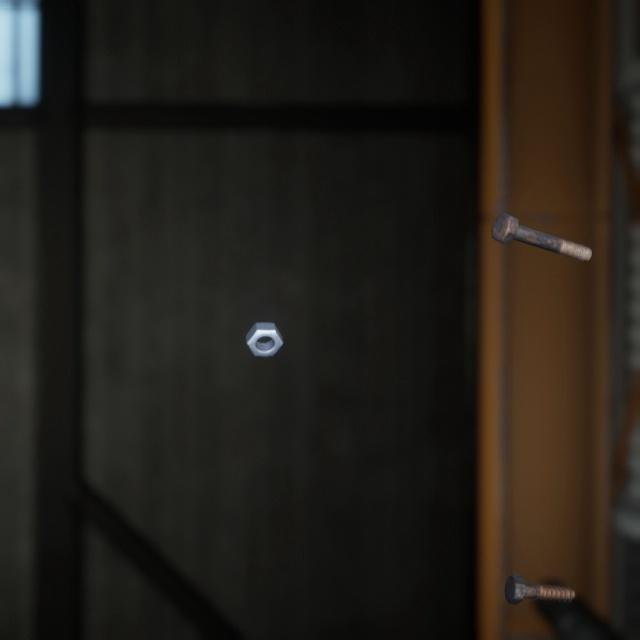bolt: (487, 192, 596, 250), (499, 546, 580, 585)
nut: (241, 299, 287, 342)
